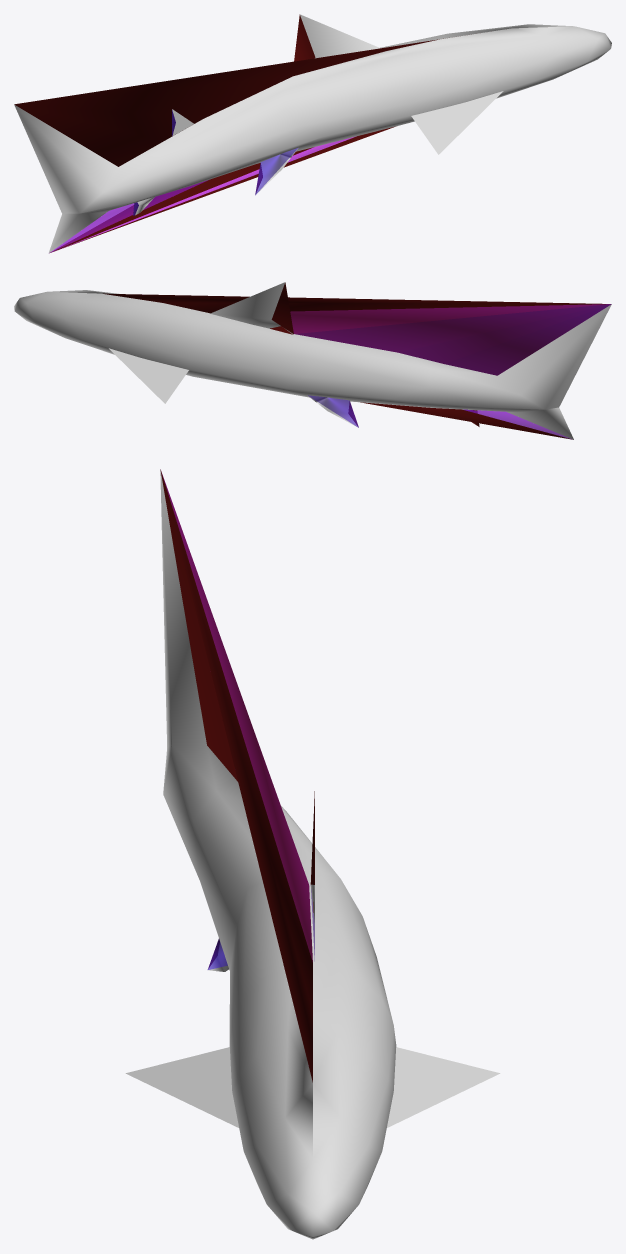
The picture shows the model from 3 angles, top to bottom: view 1: azimuth 30°, elevation 25°; view 2: azimuth 150°, elevation 25°; view 3: azimuth 270°, elevation 25°; orthographic projection. The views are drawn at different scales.
Bounding box in the file's own units: 0.95 × 0.2312 × 0.276.
